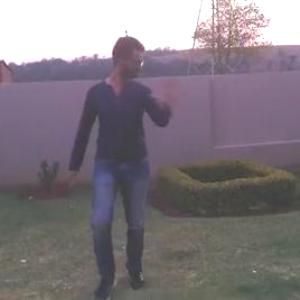follow_hand: (155, 75, 189, 109)
